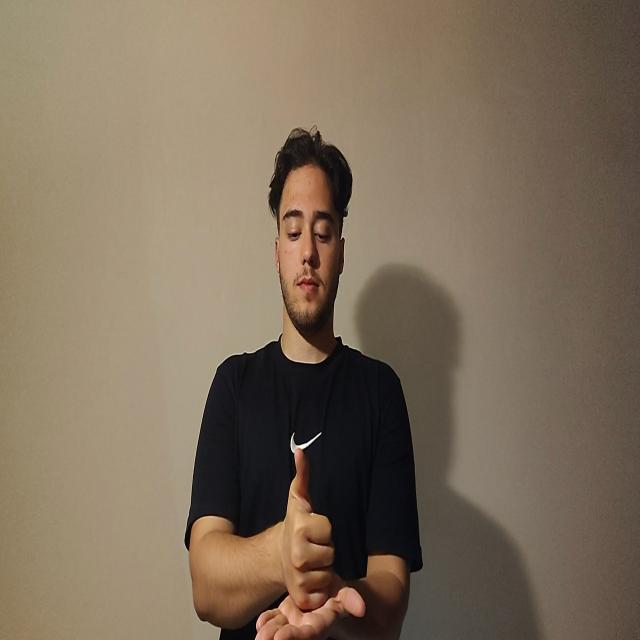help: (256, 449, 360, 640)
